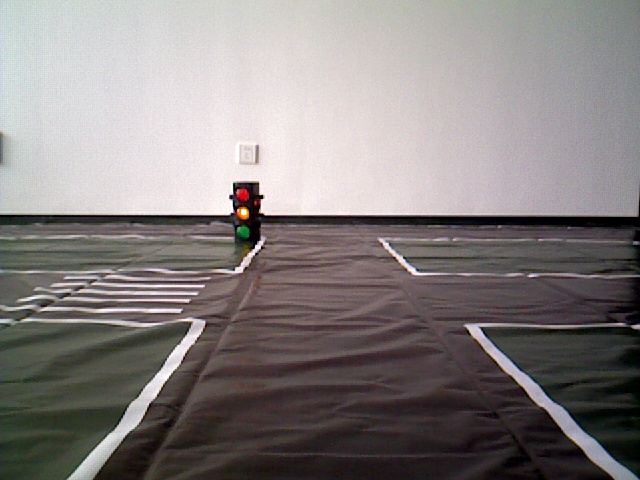yellow: (230, 183, 259, 240)
